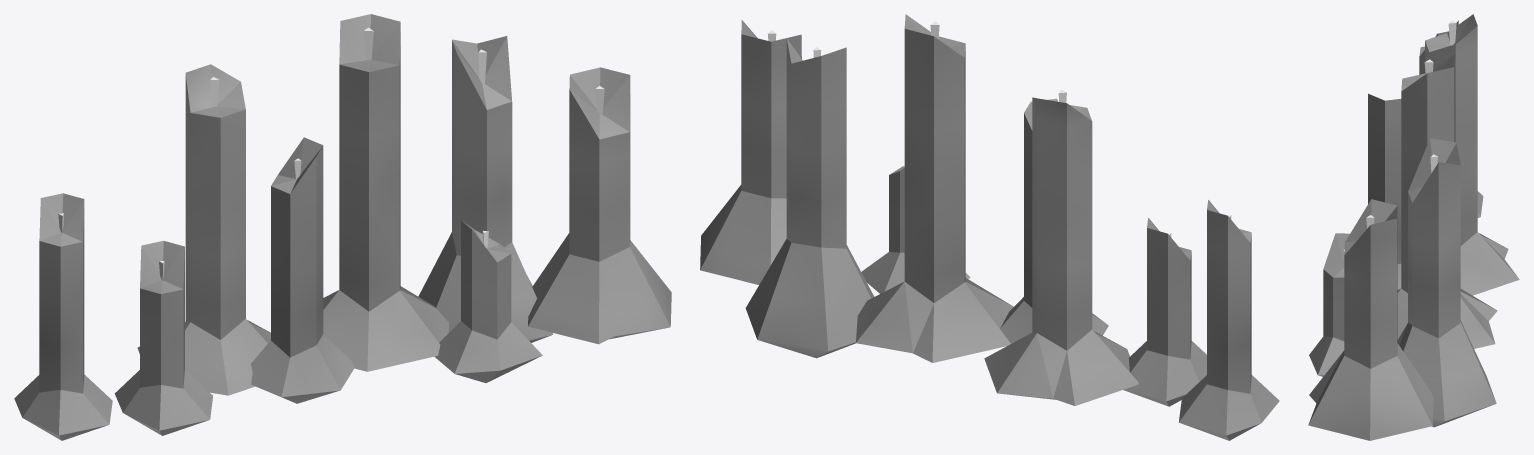
The model's file is CandleGround.fbx.
The picture shows the model from 3 angles, left to right: view 1: azimuth 30°, elevation 25°; view 2: azimuth 150°, elevation 25°; view 3: azimuth 270°, elevation 25°; orthographic projection. The views are drawn at different scales.
Parts seen in each view (by area): view 1: CandleGround; view 2: CandleGround; view 3: CandleGround.
Boxes of the visible parts, bbox=[...] form: CandleGround: bbox=[14, 14, 671, 440]; CandleGround: bbox=[700, 14, 1279, 440]; CandleGround: bbox=[1308, 14, 1519, 440].
Size of the model in its own units: 331 by 190 by 114.
Materials: 1 (1 with a texture image).
